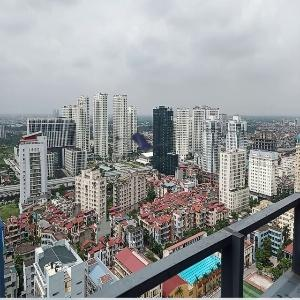drone: (103, 113, 172, 182)
